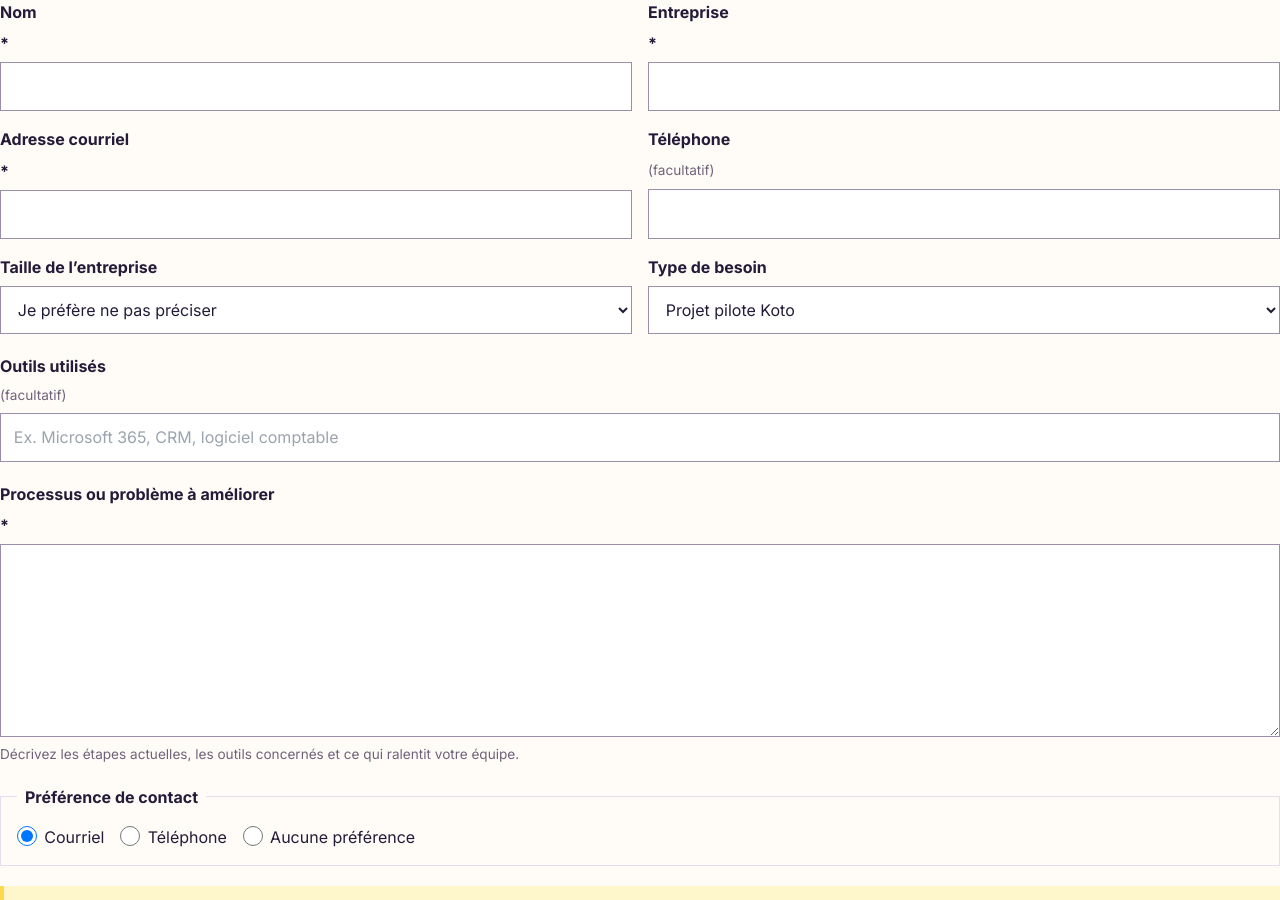
Test: ContactForm › announces a successful submission
The image size is (1280, 900).
Type "Marie Tremblay" into the field labelled "Nom *" at coordinates (316, 87), box [0,62,632,111]
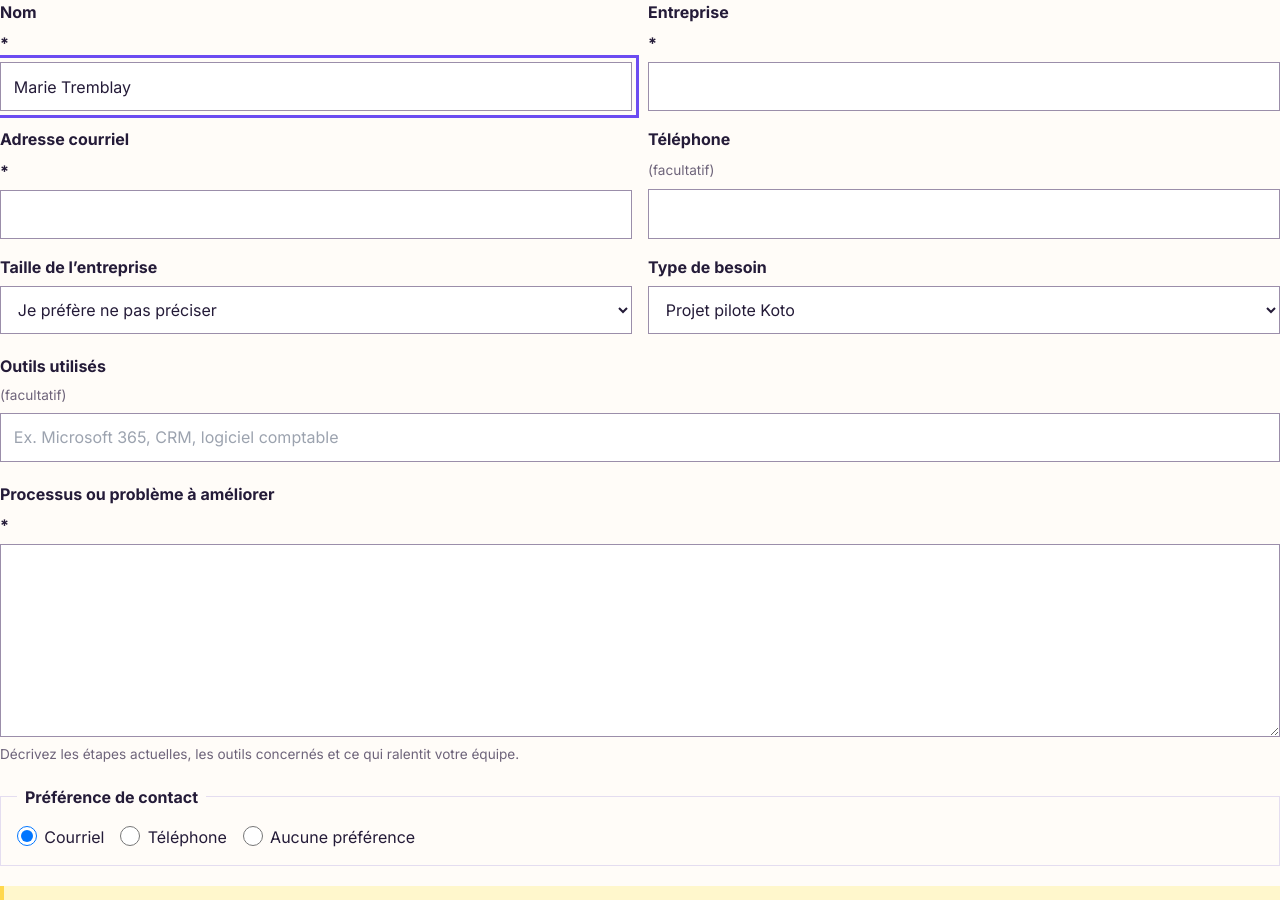
Type "Atelier du Nord" into the field labelled "Entreprise *" at coordinates (964, 87), box [648,62,1279,111]
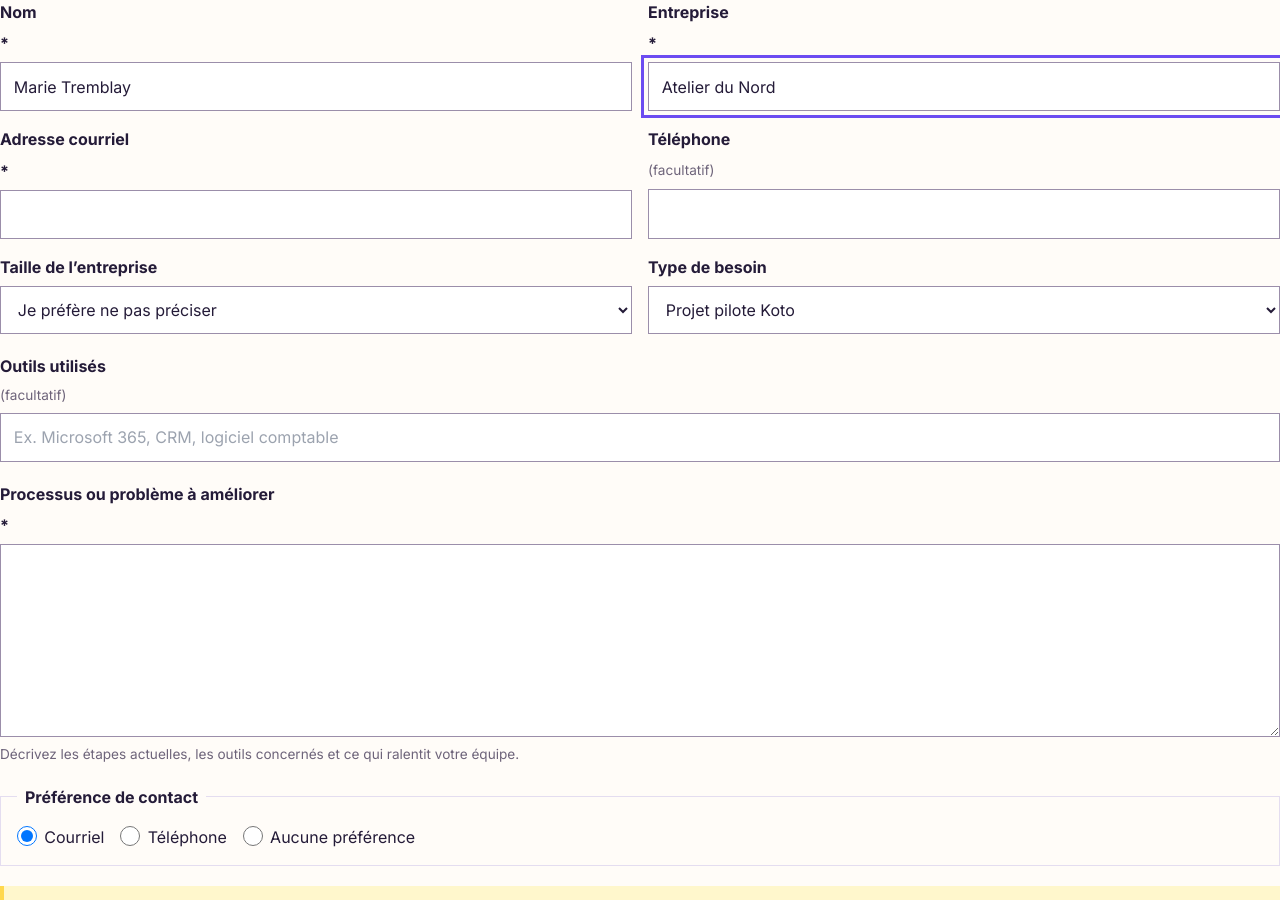
Type "marie@example.com" into the field labelled "Adresse courriel *" at coordinates (316, 214), box [0,190,632,239]
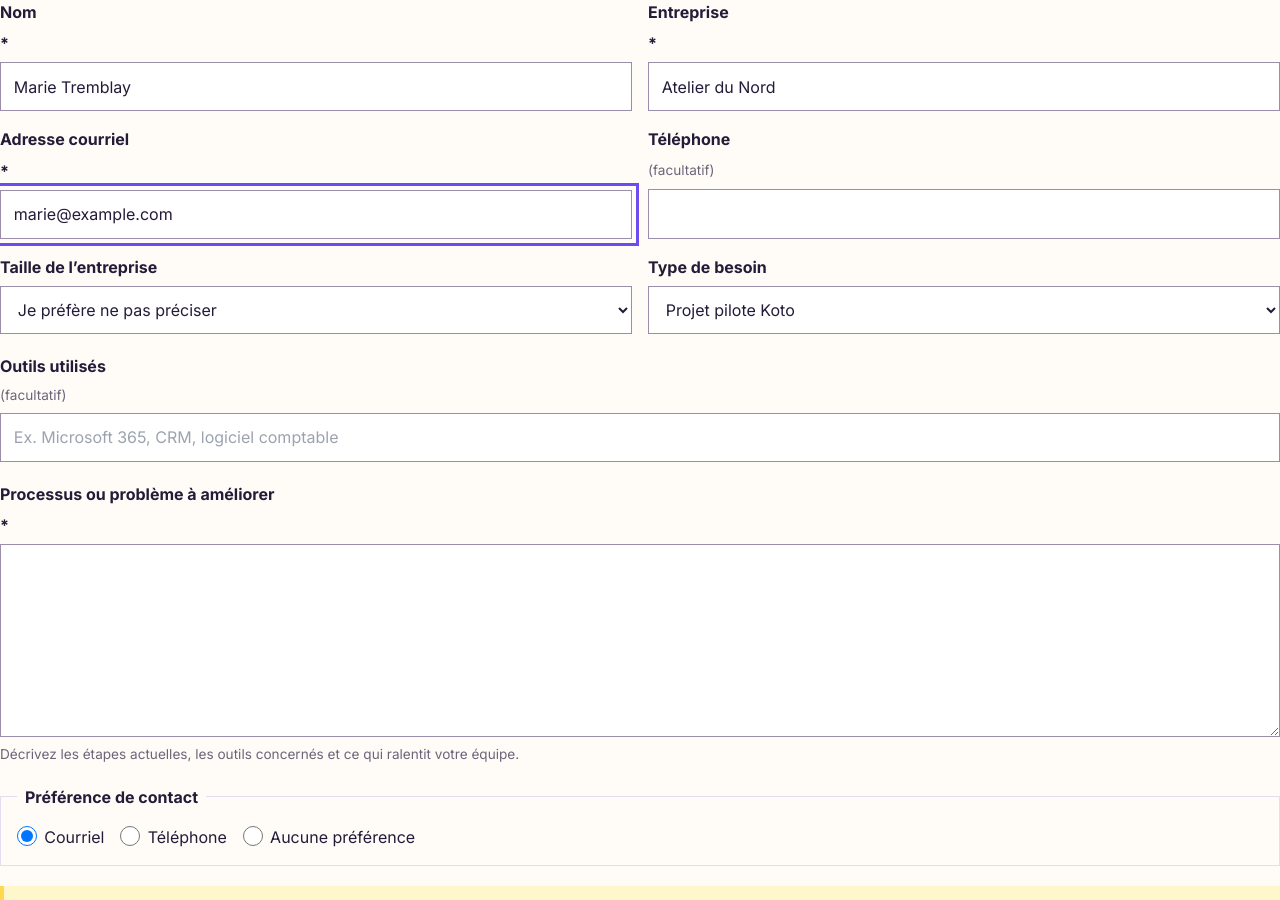
Type "Nous souhaitons automatiser le classement de nos demandes clients." into the text box labelled "Processus ou problème" at coordinates (640, 641), box [0,544,1279,737]
(page scrolled)
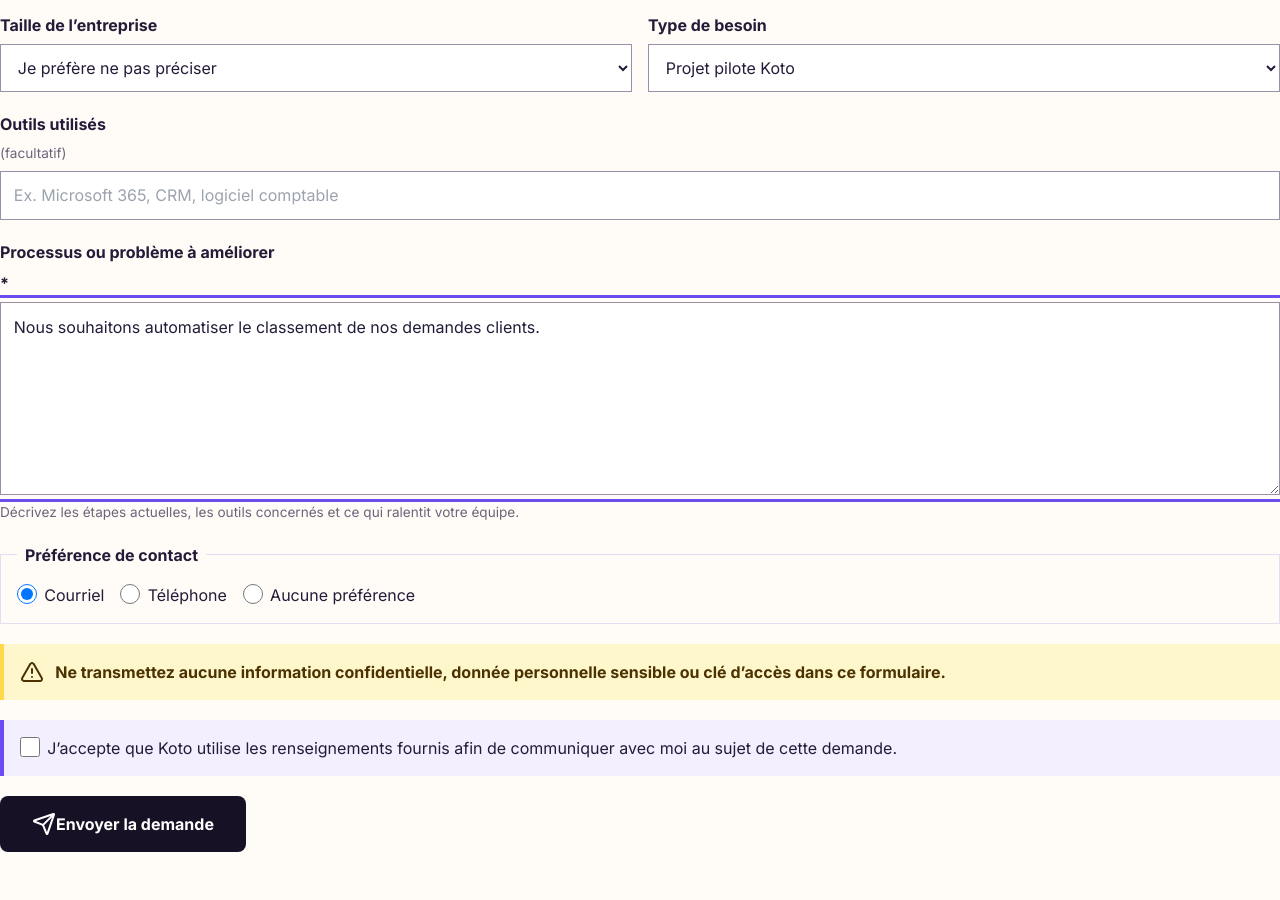
Click the checkbox labelled "J’accepte" at coordinates (30, 747), box [20,737,40,757]
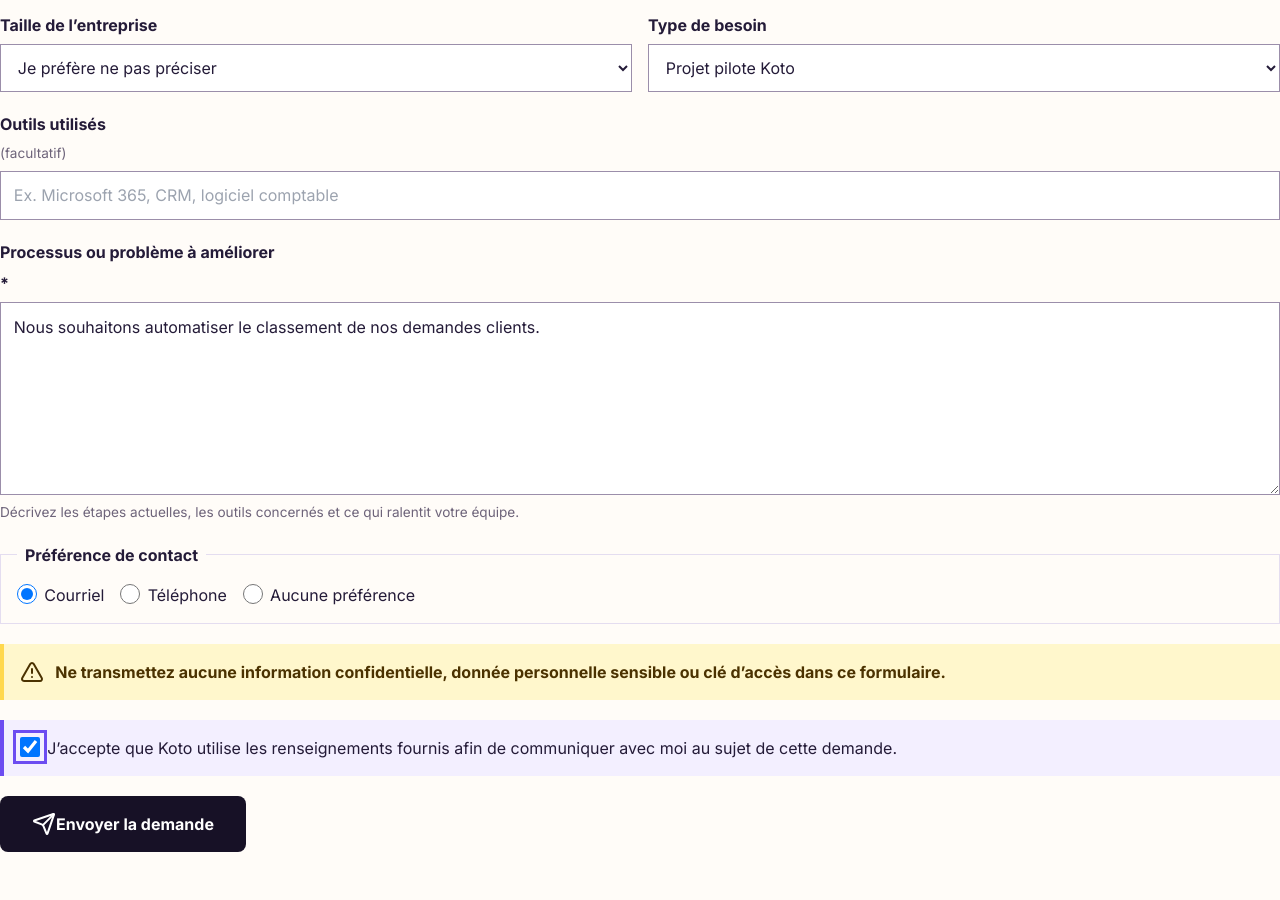
Click the button "Envoyer la demande" at coordinates (123, 824), box [0,796,246,852]
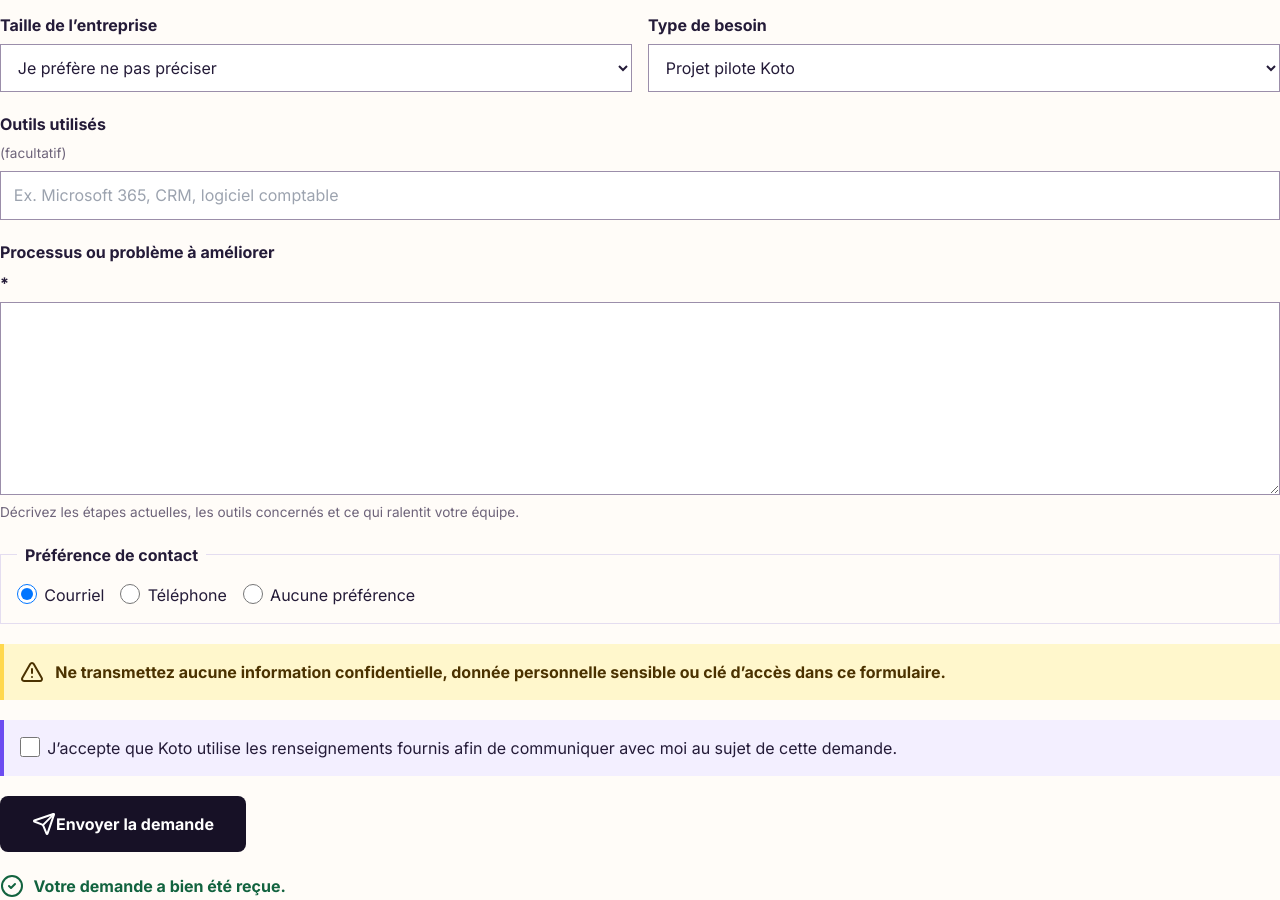
Check: the text "Votre demande a bien été reçue." is shown, box [0,874,286,898]
